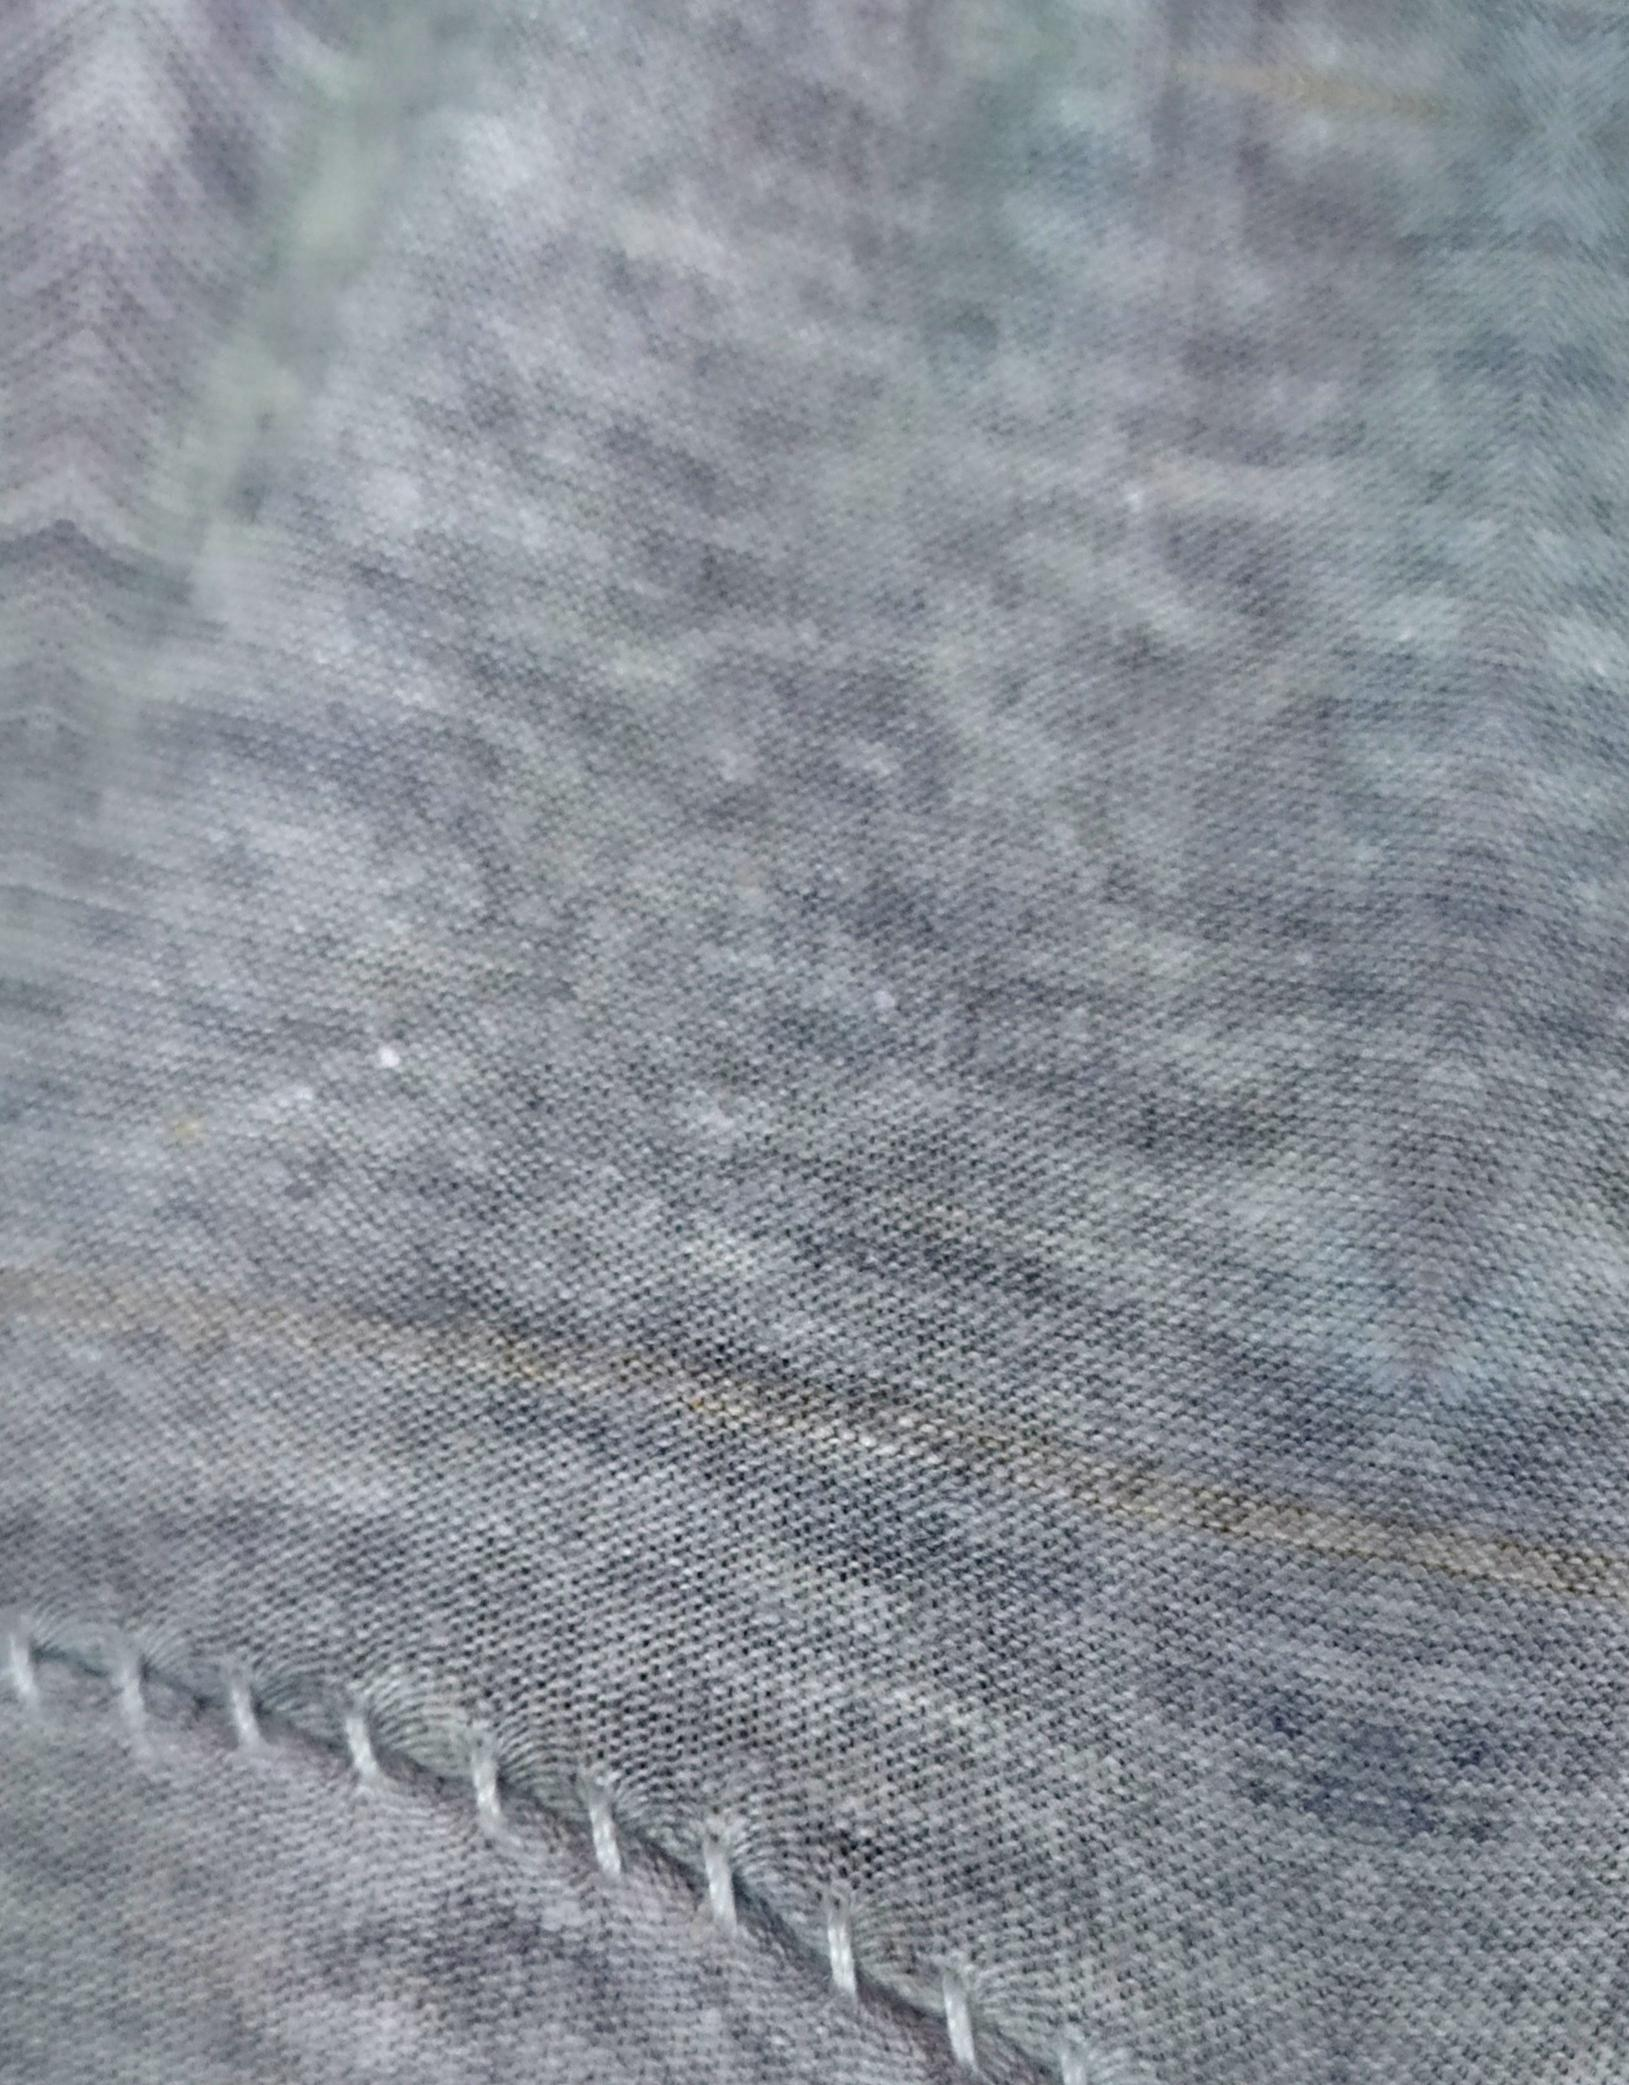slub: (10, 1574, 1091, 2075)
